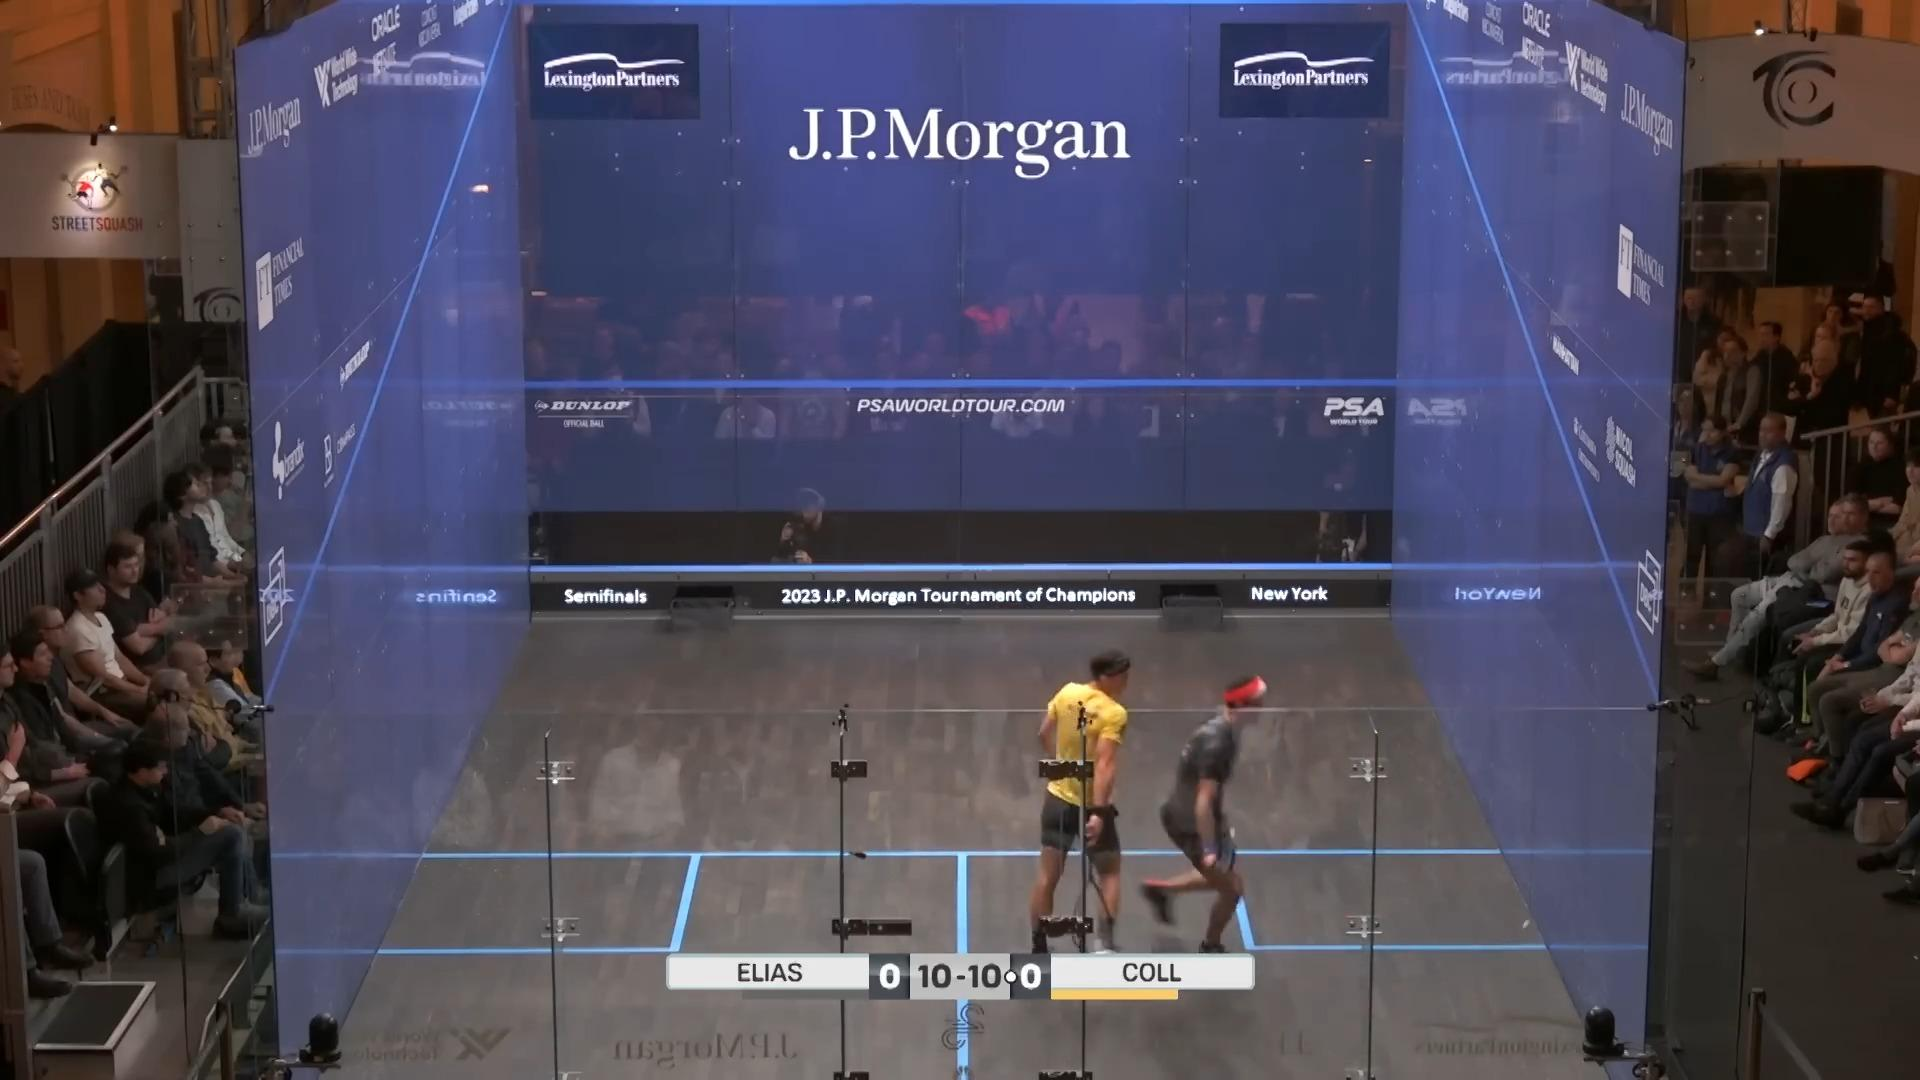Racket: (1073, 839, 1129, 960)
